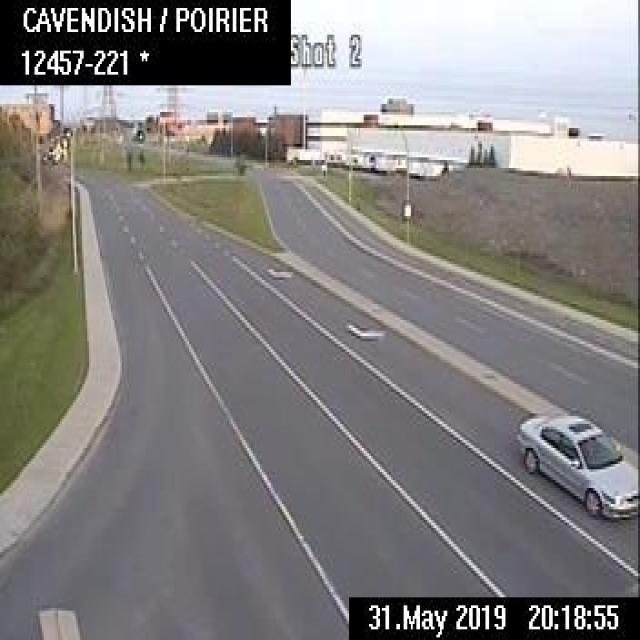vehicle: (515, 412, 638, 518)
